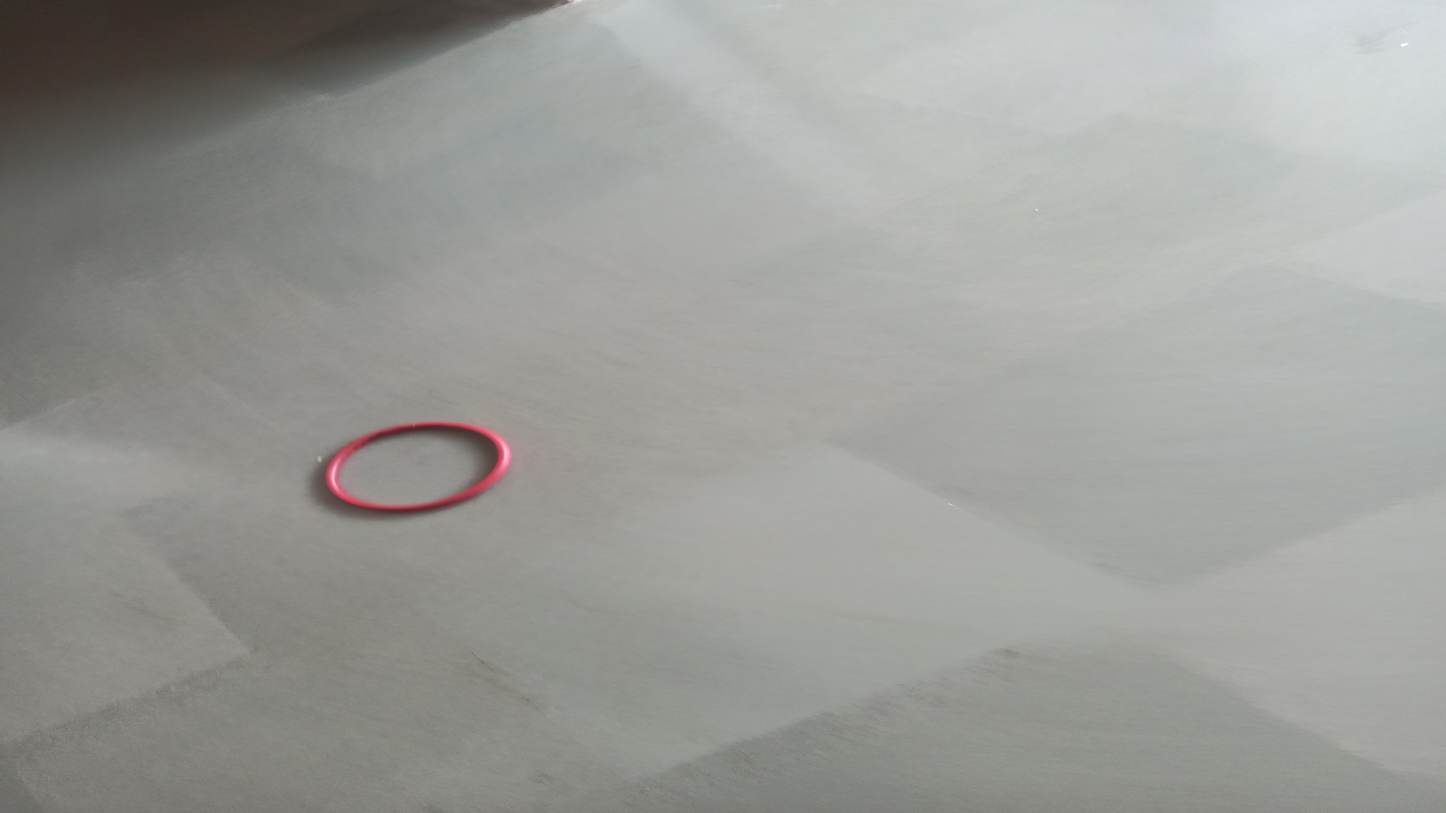Red ring: (328, 420, 510, 515)
